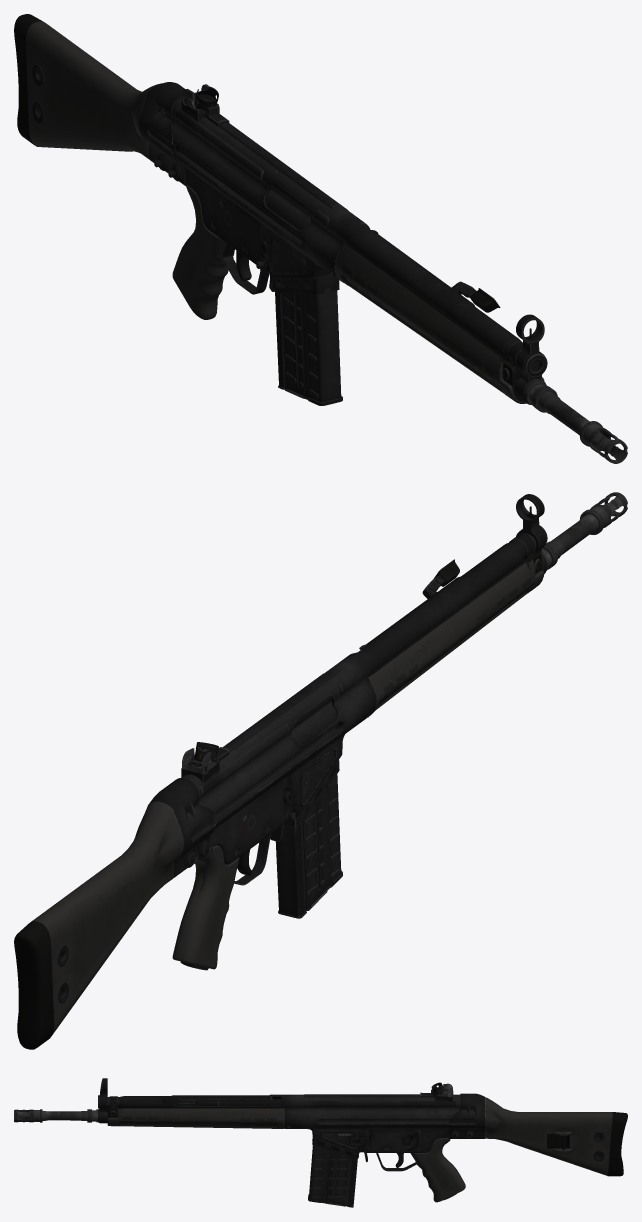
The model's file is hkg3.glb.
3 renders of one model, top to bottom at view 1: azimuth 30°, elevation 25°; view 2: azimuth 150°, elevation 25°; view 3: azimuth 270°, elevation 25°, orthographic. The views are drawn at different scales.
Visible parts, largest first — view 1: Sketchfab_Scene; view 2: Sketchfab_Scene; view 3: Sketchfab_Scene.
Part boxes in pixels (box(x1,y1,x2,y2)): Sketchfab_Scene: box(14, 14, 627, 463); Sketchfab_Scene: box(14, 492, 627, 1049); Sketchfab_Scene: box(14, 1078, 627, 1207).
Size of the model in its own units: 0.0486 by 0.2308 by 1.02.
1 material, 1 textured.
